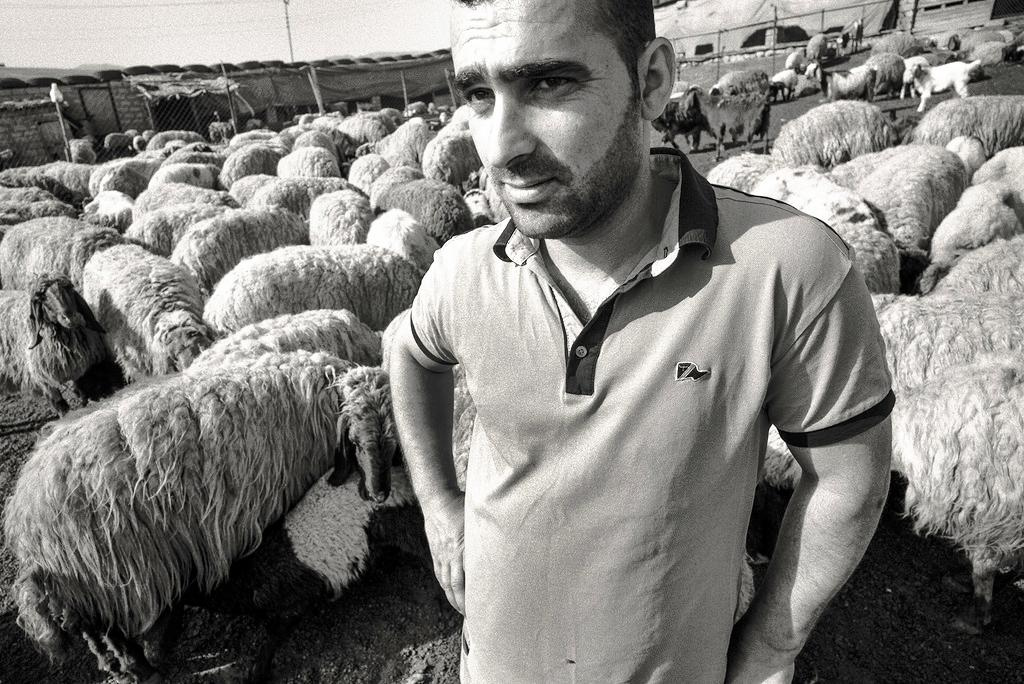Sheep: (25, 350, 383, 661), (893, 360, 1021, 572), (77, 242, 216, 382), (753, 167, 896, 289), (872, 272, 1021, 387), (197, 308, 384, 369), (1, 218, 126, 295), (929, 178, 1024, 270), (910, 95, 1022, 162), (0, 288, 52, 408), (683, 88, 767, 162), (831, 146, 934, 191), (134, 179, 230, 217), (307, 189, 370, 243), (234, 174, 314, 216), (896, 58, 979, 98), (85, 160, 142, 199), (823, 66, 876, 104), (0, 185, 62, 214)
